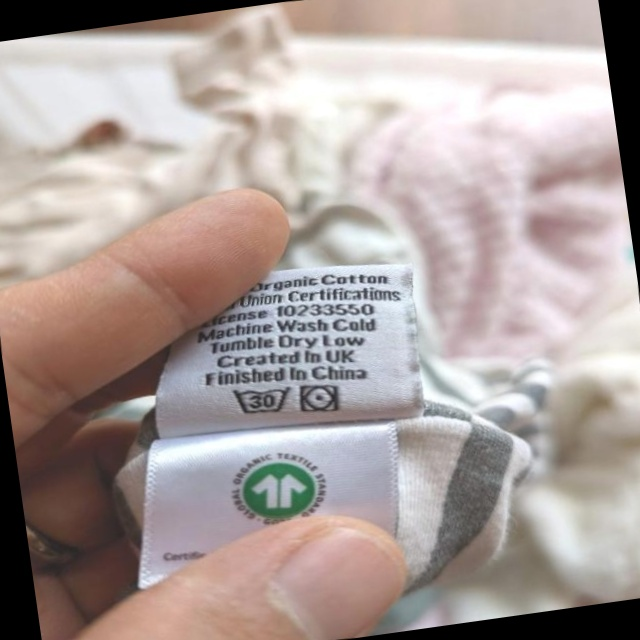30C: (226, 377, 296, 423)
tumble_dry_low: (295, 378, 345, 420)
